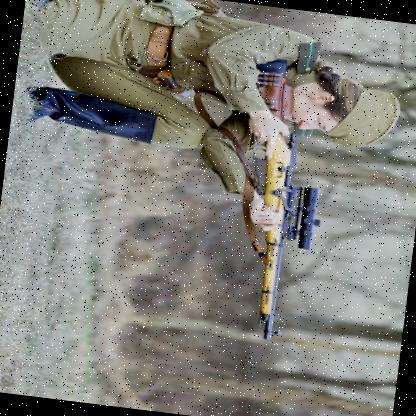rifle: (203, 54, 333, 346)
